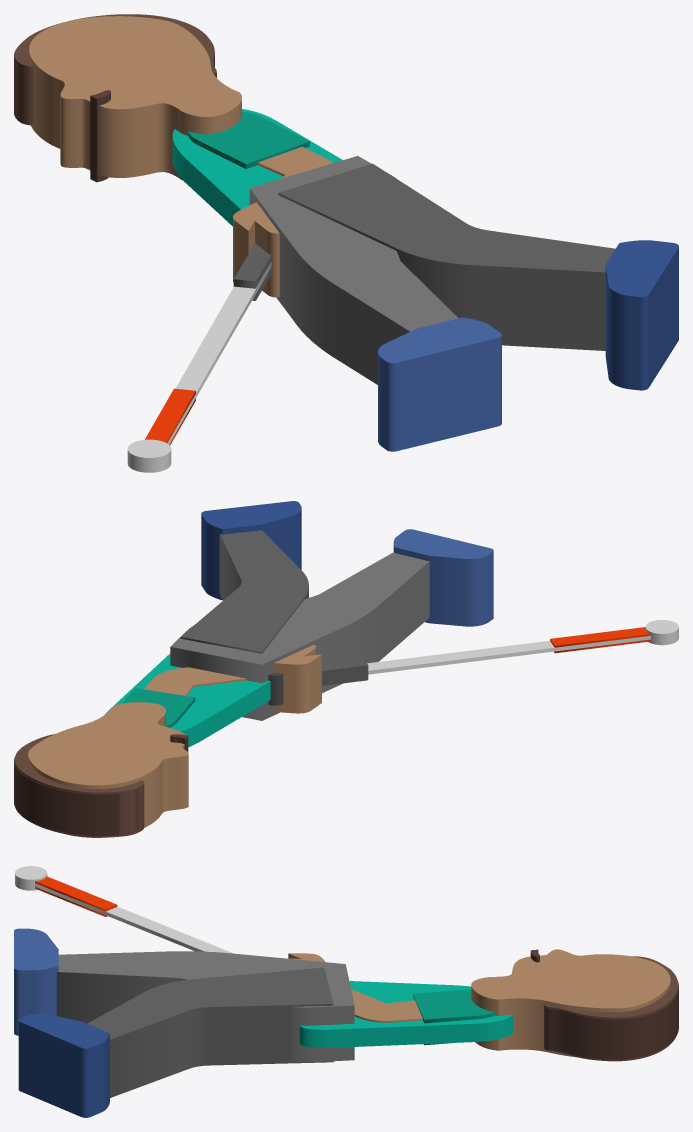
Rendered from emoji_u1f468_1f3fd_200d_1f9af.glb.
The picture shows the model from 3 angles, top to bottom: view 1: azimuth 30°, elevation 25°; view 2: azimuth 150°, elevation 25°; view 3: azimuth 270°, elevation 25°; orthographic projection. The views are drawn at different scales.
Parts seen in each view (by area): view 1: emoji_u1f468_1f3fd_200d_1f9af; view 2: emoji_u1f468_1f3fd_200d_1f9af; view 3: emoji_u1f468_1f3fd_200d_1f9af.
Boxes of the visible parts, x1=… form: emoji_u1f468_1f3fd_200d_1f9af: x1=14, y1=14, x2=678, y2=472; emoji_u1f468_1f3fd_200d_1f9af: x1=14, y1=501, x2=678, y2=837; emoji_u1f468_1f3fd_200d_1f9af: x1=14, y1=866, x2=678, y2=1117.
Size of the model in its own units: 0.0249 by 0.0038 by 0.033.
